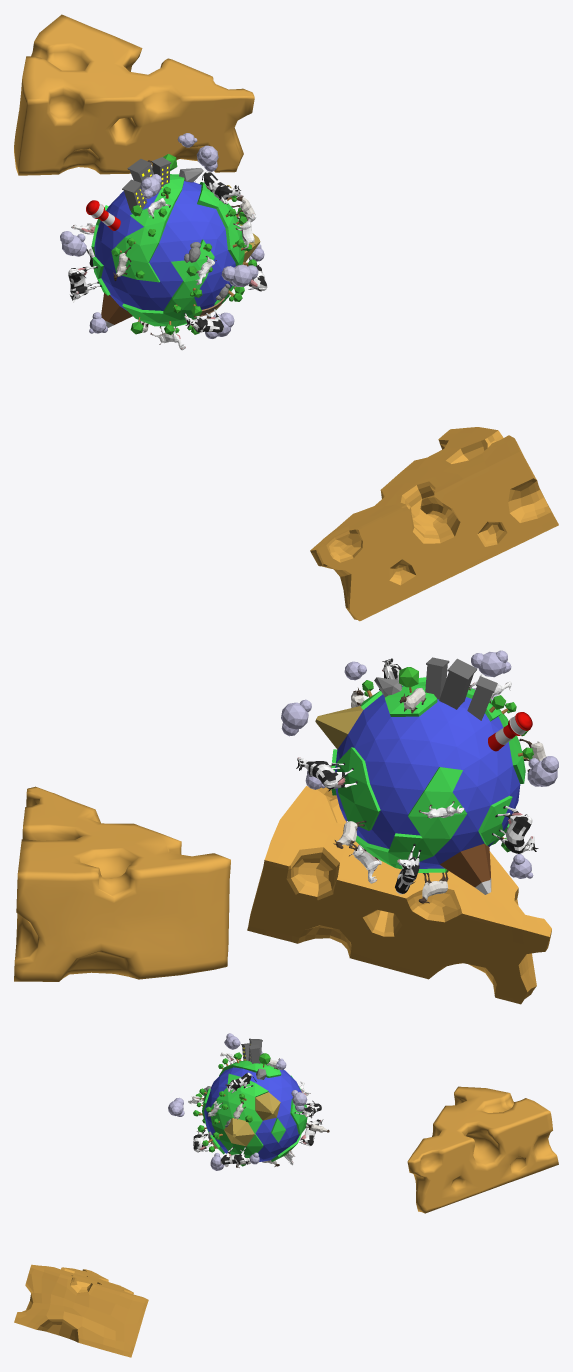
The model's file is GlobeAnim.glb.
3 renders of one model, top to bottom at view 1: azimuth 30°, elevation 25°; view 2: azimuth 150°, elevation 25°; view 3: azimuth 270°, elevation 25°, orthographic. The views are drawn at different scales.
Visible parts, largest first — view 1: Main_Body_2, Main_Body_2.001, Icosphere; view 2: Main_Body_2, Main_Body_2.001, Icosphere, Cube.001, Cow.006, Cow.002, Cylinder, Icosphere.019, Icosphere.020, Icosphere.021, Cube.002, Cube.003 (+5 smaller); view 3: Main_Body_2, Main_Body_2.001, Icosphere.
Part boxes in pixels (x1,y1,x2,y2): Main_Body_2: (14,14,254,175); Main_Body_2.001: (310,427,558,621); Icosphere: (91,174,260,327); Main_Body_2: (14,786,230,981); Main_Body_2.001: (247,766,551,1004); Icosphere: (315,677,525,894); Cube.001: (439,658,476,709); Cow.006: (492,806,538,853); Cow.002: (296,757,357,789); Cylinder: (488,712,532,751); Icosphere.019: (527,756,558,786); Icosphere.020: (281,699,311,736); Icosphere.021: (471,650,511,677); Cube.002: (425,657,449,699); Cube.003: (467,676,497,720); Main_Body_2: (407,1086,558,1213); Main_Body_2.001: (14,1264,148,1357); Icosphere: (202,1060,307,1161).
Size of the model in its own units: 6 by 6.4 by 11.97.
